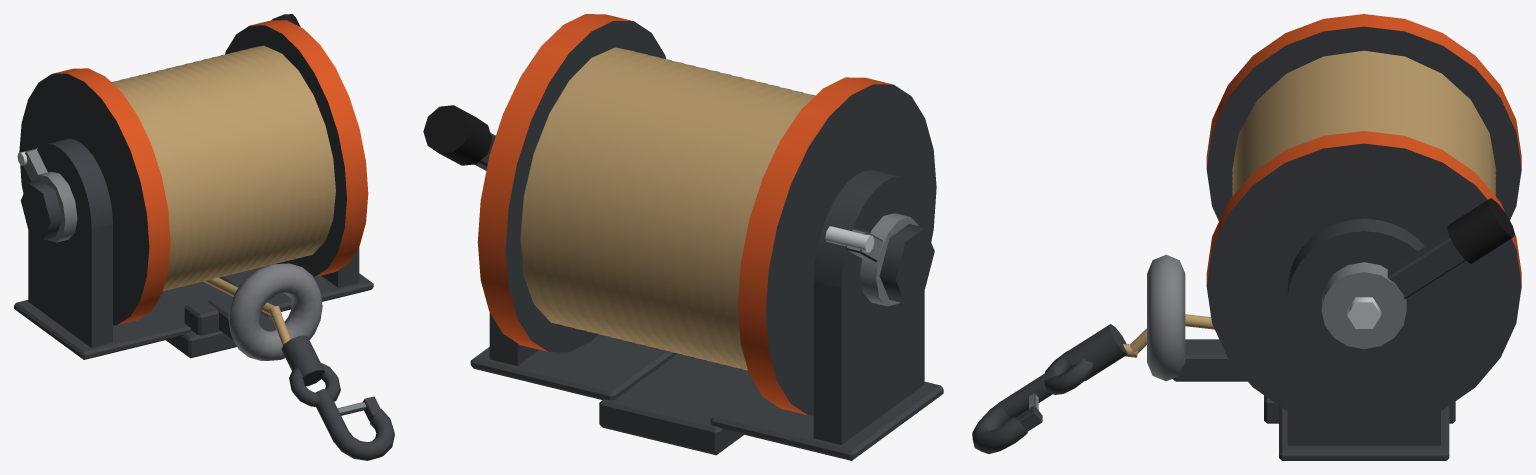
Rendered from gauntlet_leash.fbx.
The picture shows the model from 3 angles, left to right: view 1: azimuth 30°, elevation 25°; view 2: azimuth 150°, elevation 25°; view 3: azimuth 270°, elevation 25°; orthographic projection. The views are drawn at different scales.
Visible parts, largest first — view 1: Mesh_Leash_Winding, Mesh_Leash_Spool, Mesh_Leash_Cradle, Mesh_Leash_Fairlead, Mesh_Leash_Hook, Mesh_Leash_Ratchet, Mesh_Leash_RopeLead, Mesh_Leash_Pawl; view 2: Mesh_Leash_Winding, Mesh_Leash_Spool, Mesh_Leash_Cradle, Mesh_Leash_Ratchet, Mesh_Leash_Lever, Mesh_Leash_Pawl; view 3: Mesh_Leash_Spool, Mesh_Leash_Cradle, Mesh_Leash_Winding, Mesh_Leash_Lever, Mesh_Leash_Fairlead, Mesh_Leash_Hook, Mesh_Leash_RopeLead.
Part boxes in pixels (x1,y1,x2,y2): Mesh_Leash_Winding: [111, 45, 335, 291]; Mesh_Leash_Spool: [19, 20, 368, 325]; Mesh_Leash_Cradle: [14, 138, 373, 359]; Mesh_Leash_Fairlead: [184, 263, 322, 360]; Mesh_Leash_Hook: [281, 335, 394, 460]; Mesh_Leash_Ratchet: [20, 171, 77, 242]; Mesh_Leash_RopeLead: [203, 278, 290, 345]; Mesh_Leash_Pawl: [17, 148, 47, 181]; Mesh_Leash_Winding: [520, 47, 815, 370]; Mesh_Leash_Spool: [477, 14, 936, 415]; Mesh_Leash_Cradle: [470, 170, 943, 460]; Mesh_Leash_Ratchet: [860, 213, 934, 306]; Mesh_Leash_Lever: [423, 105, 495, 170]; Mesh_Leash_Pawl: [825, 226, 883, 261]; Mesh_Leash_Spool: [1206, 14, 1521, 410]; Mesh_Leash_Cradle: [1264, 218, 1455, 460]; Mesh_Leash_Winding: [1232, 50, 1496, 196]; Mesh_Leash_Lever: [1321, 198, 1515, 349]; Mesh_Leash_Fairlead: [1147, 254, 1247, 381]; Mesh_Leash_Hook: [972, 324, 1127, 453]; Mesh_Leash_RopeLead: [1123, 314, 1214, 357].
Size of the model in its own units: 41.7 by 36.98 by 51.62.
